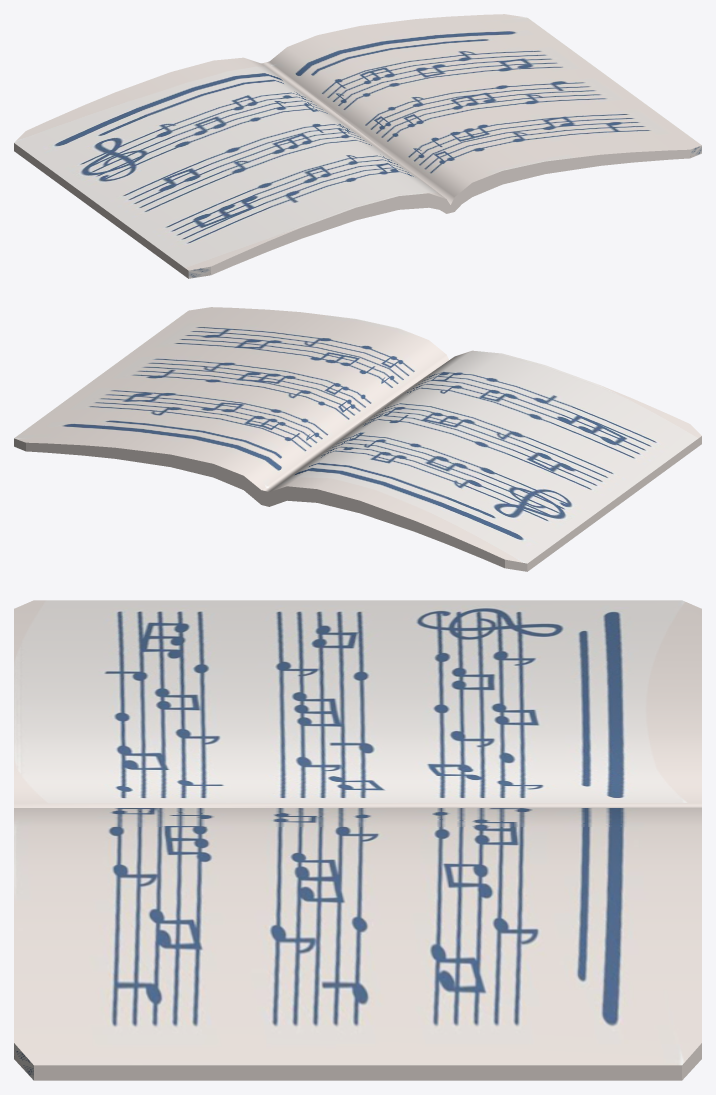
File: music_notes.fbx
3 views of the same model, one above another, from view 1: azimuth 30°, elevation 25°; view 2: azimuth 150°, elevation 25°; view 3: azimuth 270°, elevation 25° (orthographic). The views are drawn at different scales.
Visible parts, largest first — view 1: music_notes; view 2: music_notes; view 3: music_notes.
Boxes of the visible parts, x1,y1,x2,y2 form: music_notes: [14, 14, 701, 278]; music_notes: [14, 307, 701, 571]; music_notes: [14, 600, 701, 1080].
Bounding box in the file's own units: 150 × 10.26 × 93.98.
